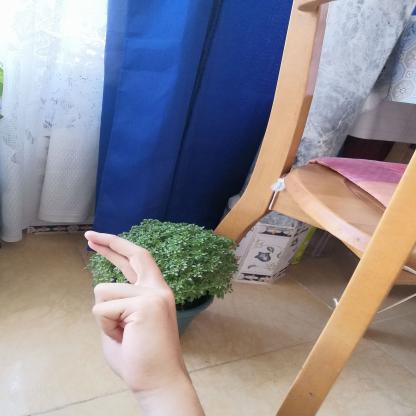ZAY: (72, 223, 194, 395)
